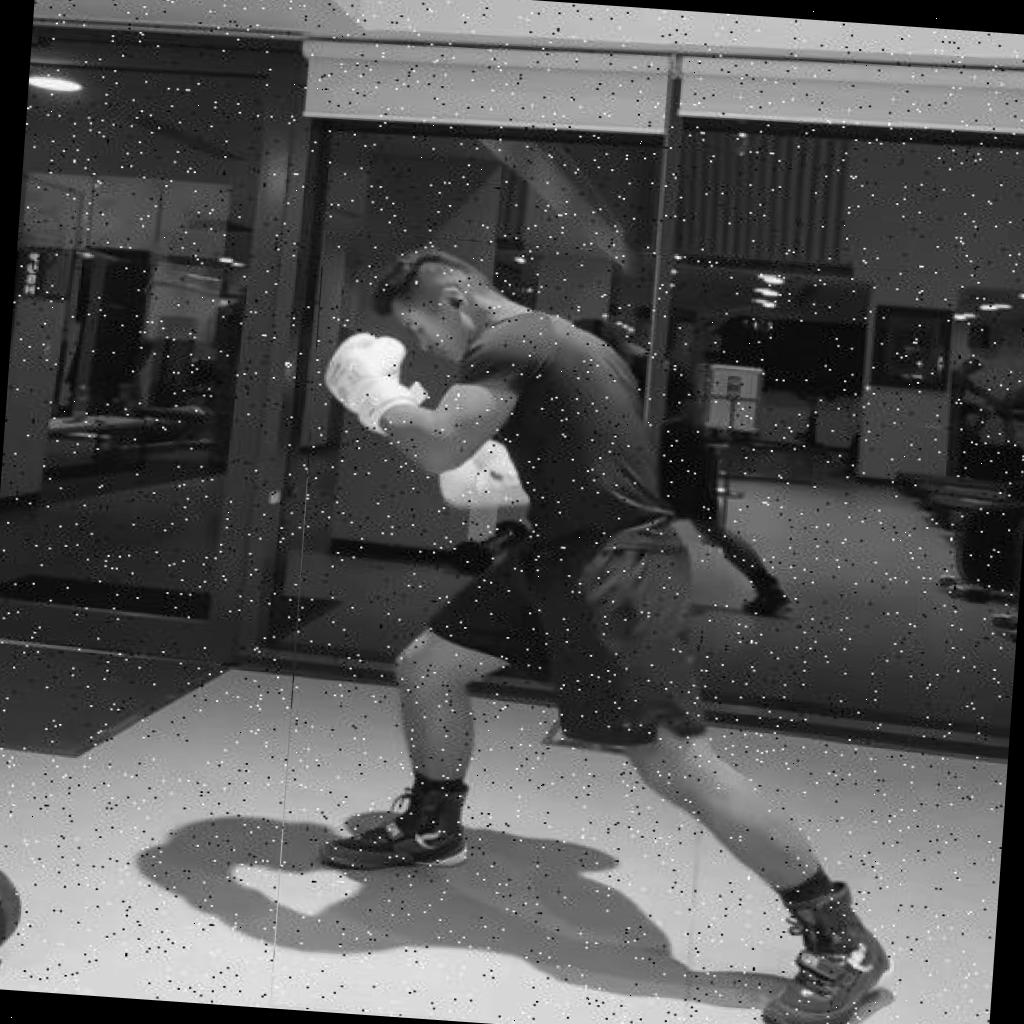no punch: (270, 231, 943, 1024)
